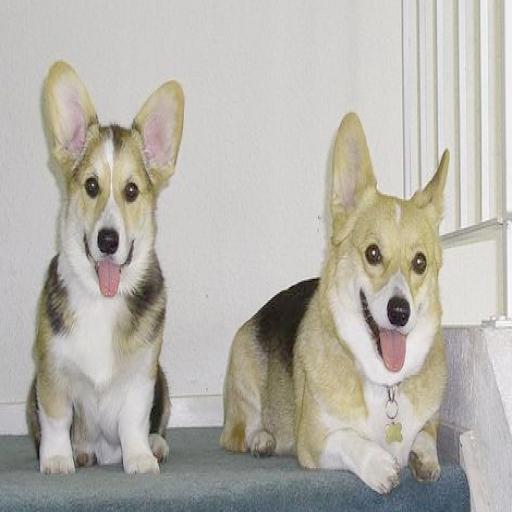dog_face: (322, 116, 468, 373), (44, 65, 190, 304)
